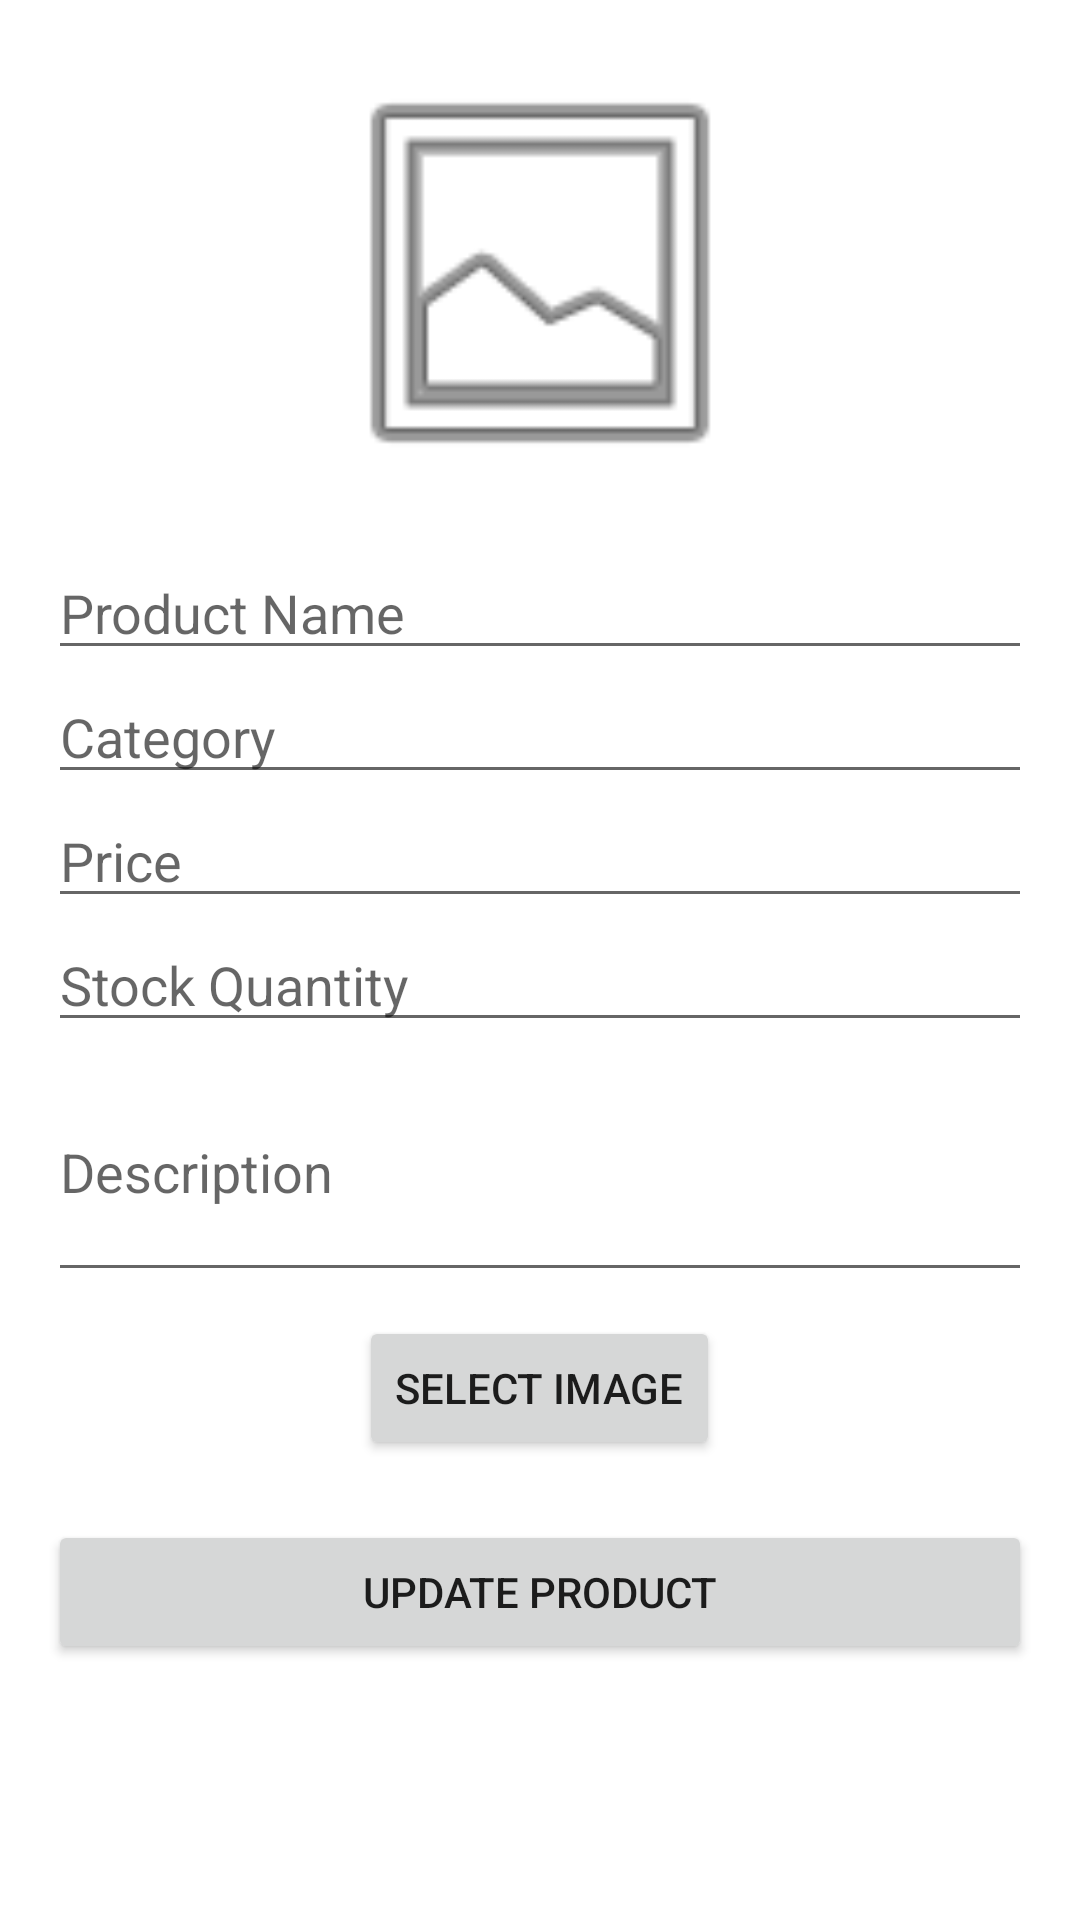

Icons on this 1080w x 1920h Android screen, each with its box as detection(x1, y1, x2, y2):
gallery: detection(370, 103, 710, 443)
